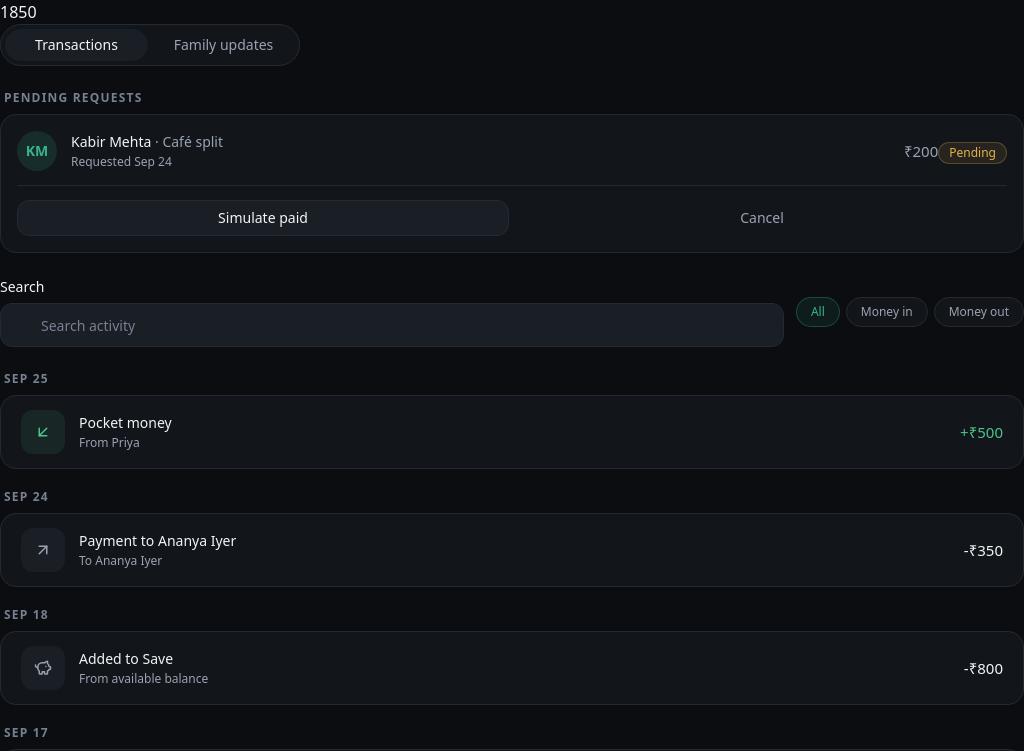
Test: activity feed › shows the empty state when nothing matches
The width and height of the screenshot is (1024, 751).
Type "zzzzz" into the field labelled "Search" at (392, 325), box [0, 303, 784, 347]
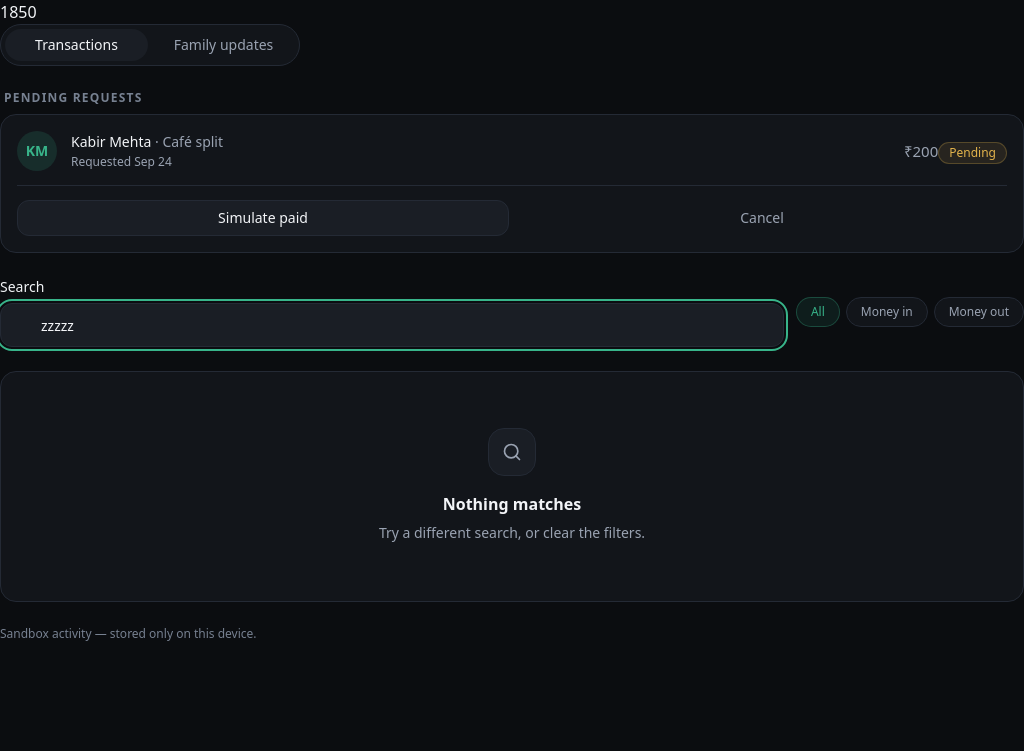
Expected: the heading "Nothing matches" is shown, [443, 492, 581, 516]
